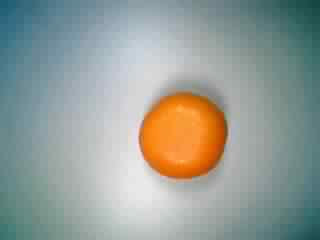orange: (131, 86, 230, 183)
